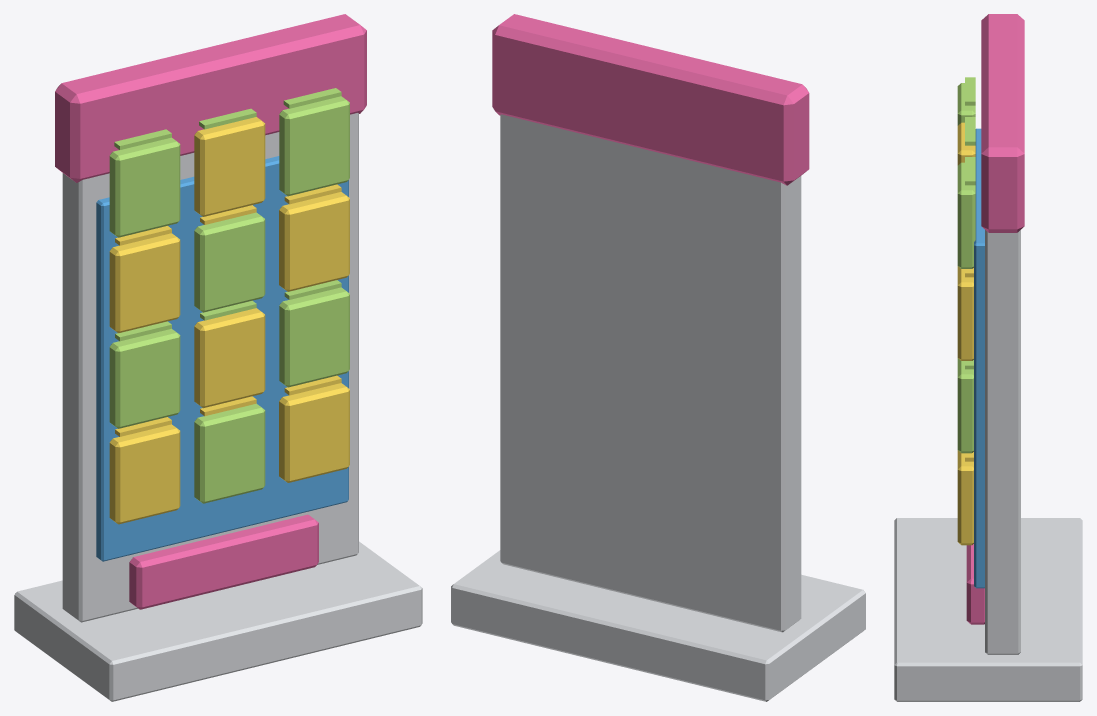
File: trampoline-park-and-soft-play-grip-sock-display-9d3c7df0__34634.glb
The picture shows the model from 3 angles, left to right: view 1: azimuth 30°, elevation 25°; view 2: azimuth 150°, elevation 25°; view 3: azimuth 270°, elevation 25°; orthographic projection. The views are drawn at different scales.
Parts seen in each view (by area): view 1: grip-sock-display; view 2: grip-sock-display; view 3: grip-sock-display.
Boxes of the visible parts, x1=… form: grip-sock-display: x1=14, y1=14, x2=422, y2=701; grip-sock-display: x1=451, y1=14, x2=865, y2=701; grip-sock-display: x1=894, y1=14, x2=1082, y2=701.
Bounding box in the file's own units: 0.96 × 1.67 × 0.52.
